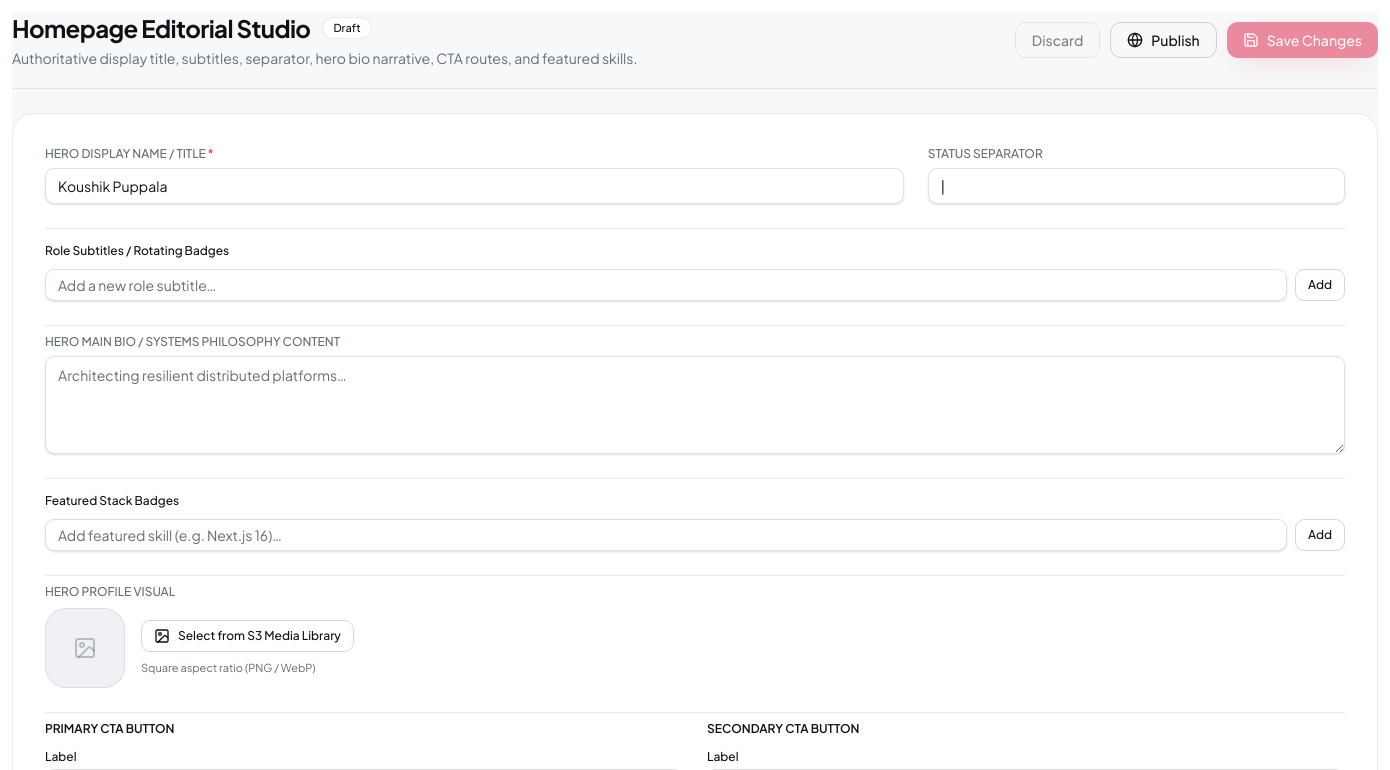
HomeView › loads the draft and publishes it
Expected: the field showing "Koushik Puppala" is shown, top-left (45, 168), bottom-right (904, 204)
Expected: the text "Draft" is shown, top-left (322, 17), bottom-right (372, 39)
What coordinates should you click on to do the following:
click the button "Publish"
I would click on:
 (1164, 40)
Its box is top-left (1110, 22), bottom-right (1217, 58).
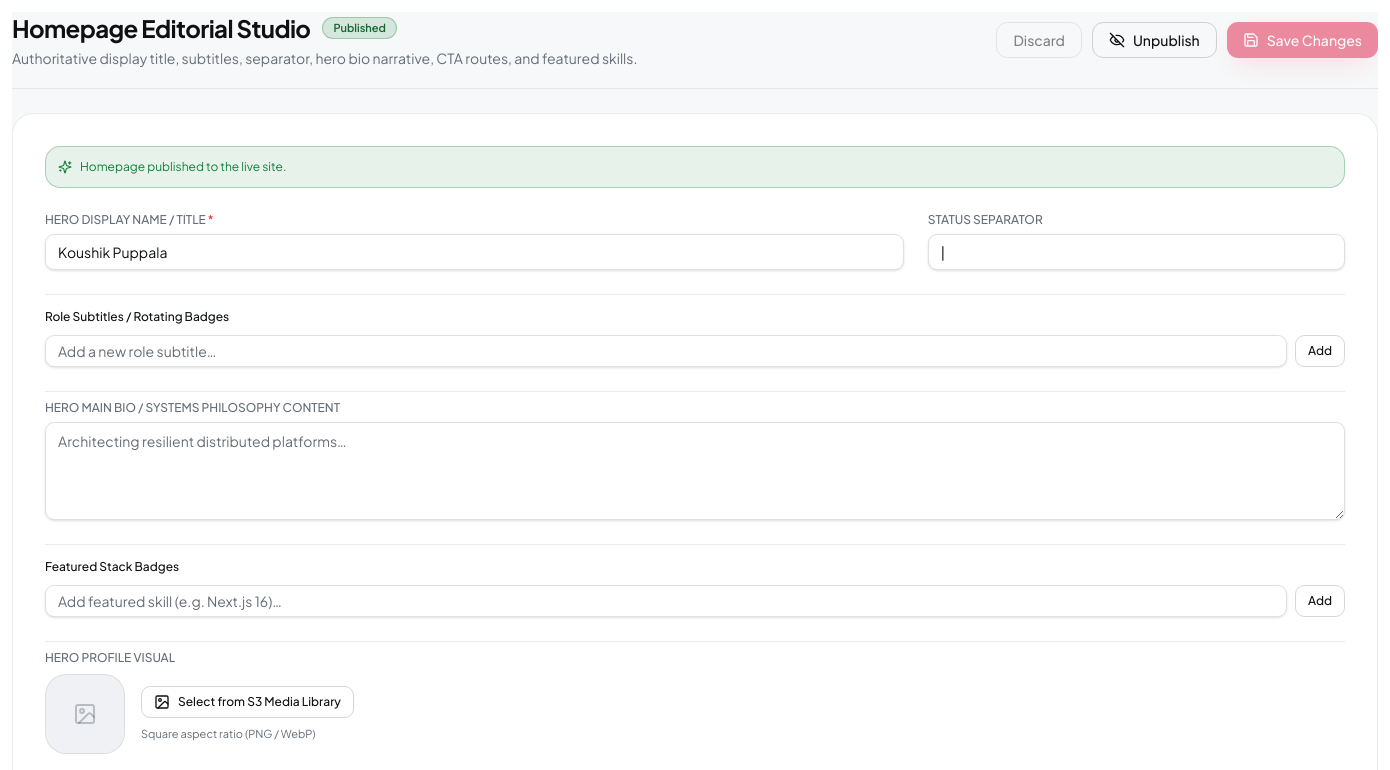
Result: the text "Published" is shown at top-left (322, 17), bottom-right (397, 39)
Result: the button "Unpublish" is shown at top-left (1092, 22), bottom-right (1217, 58)
Result: the text "Homepage published to the live site." is shown at top-left (80, 159), bottom-right (286, 175)
